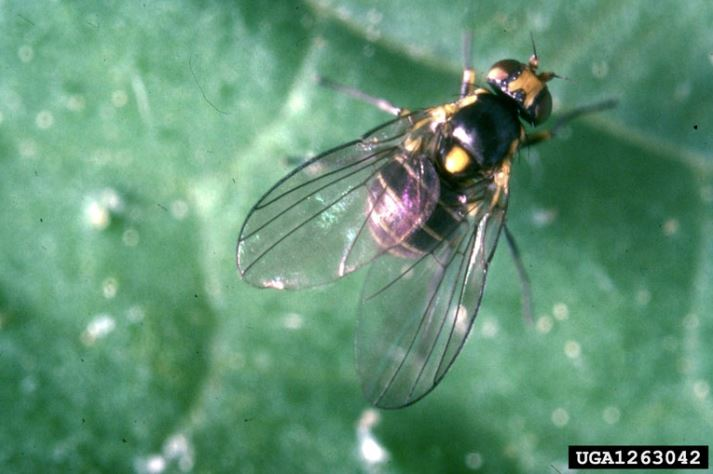Trifoli: (214, 42, 590, 415)
